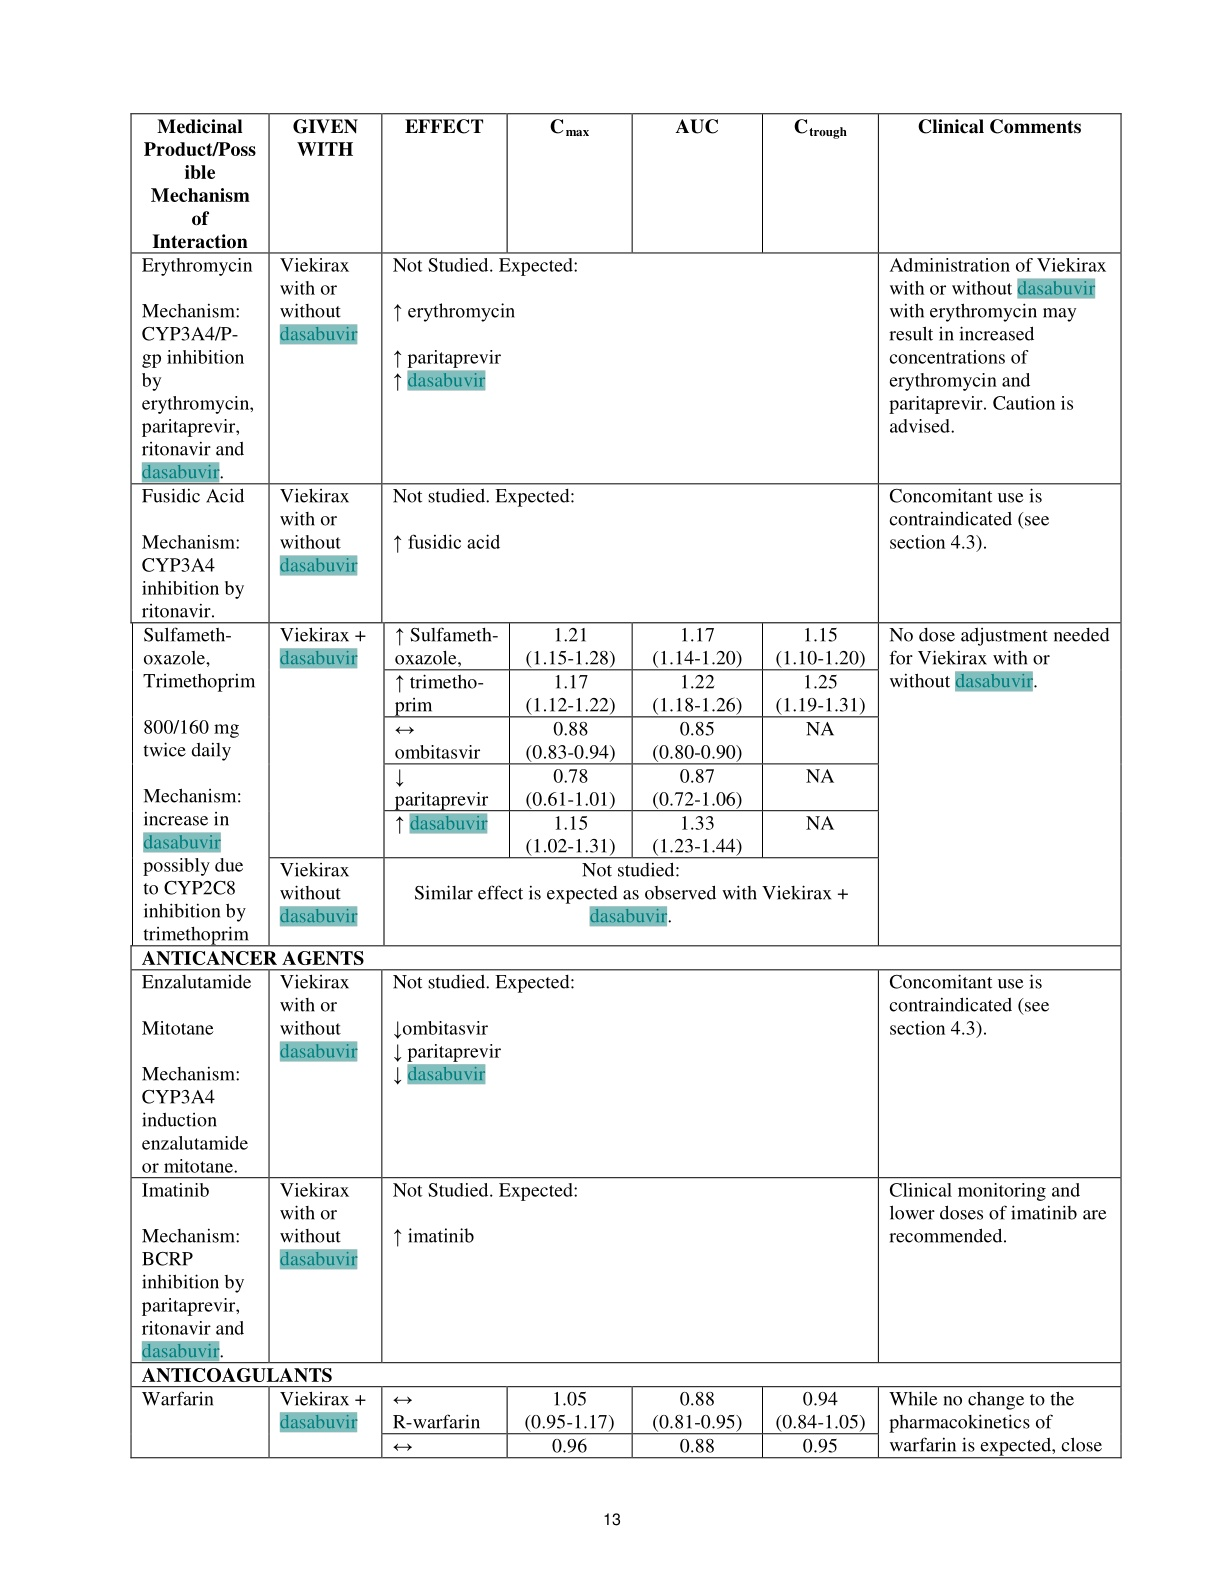merged_cells: (130, 113, 1122, 1459)
